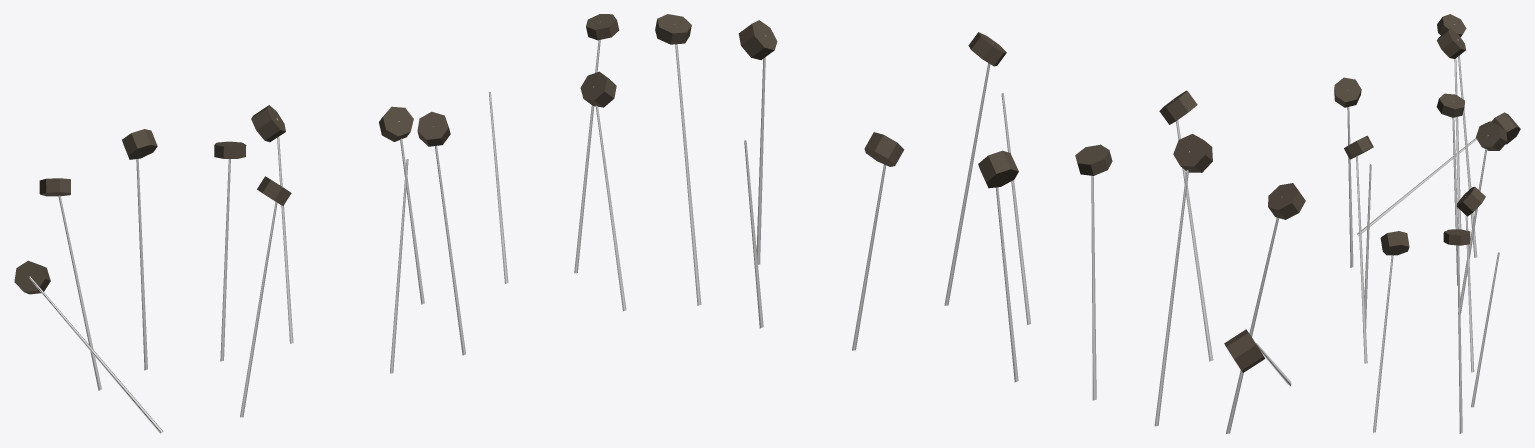
Rendered from S7U_Sunflowers_A.fbx.
3 renders of one model, left to right at view 1: azimuth 30°, elevation 25°; view 2: azimuth 150°, elevation 25°; view 3: azimuth 270°, elevation 25°, orthographic. The views are drawn at different scales.
Visible parts, largest first — view 1: S7U_Sunflowers_A; view 2: S7U_Sunflowers_A; view 3: S7U_Sunflowers_A.
Part boxes in pixels (x1,y1,x2,y2): S7U_Sunflowers_A: [14, 14, 626, 433]; S7U_Sunflowers_A: [655, 14, 1305, 433]; S7U_Sunflowers_A: [1334, 14, 1520, 433].
Size of the model in its own units: 4.5 by 1.91 by 1.47.
